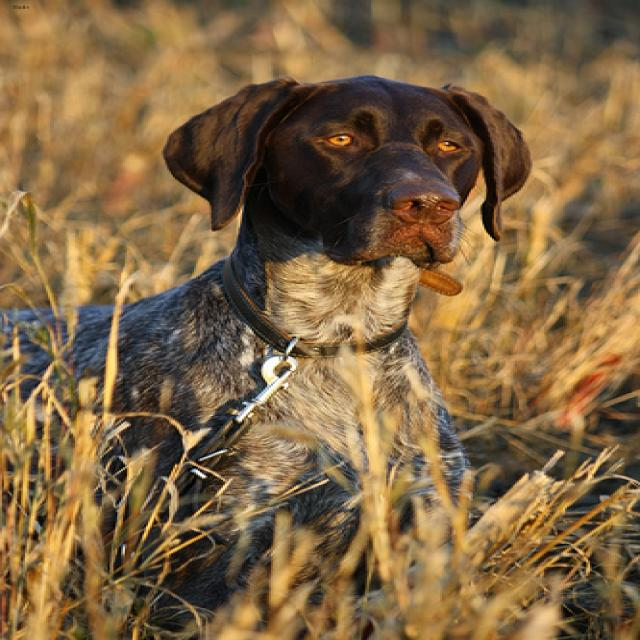dog-german_shorthaired: (2, 67, 548, 637)
